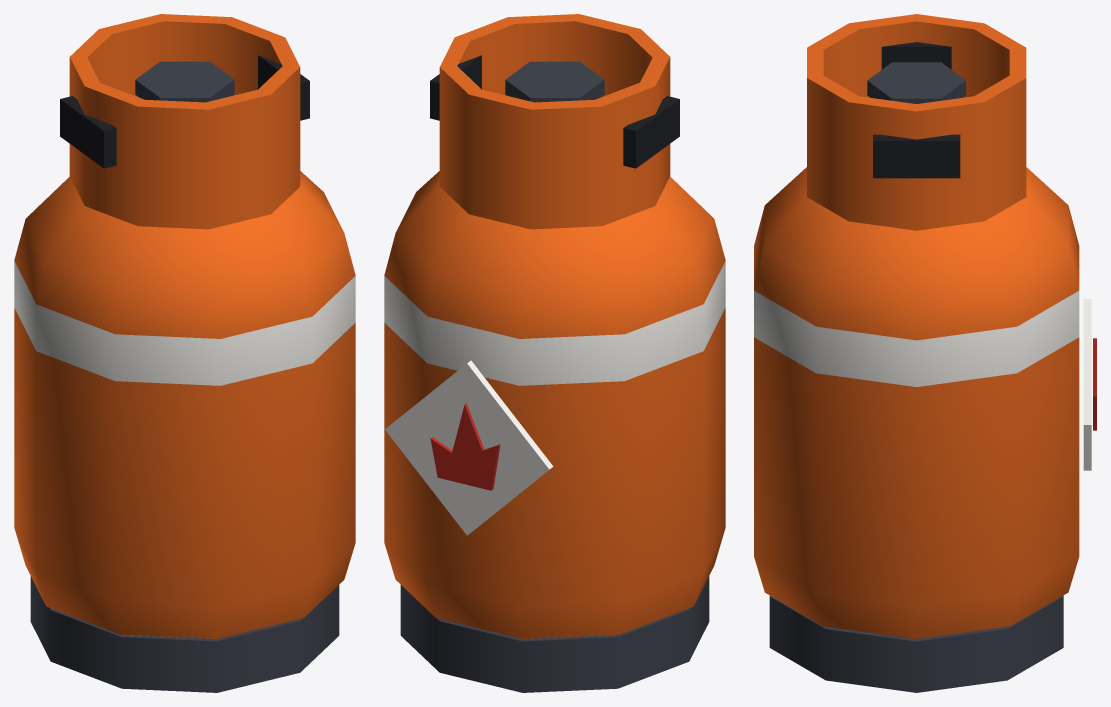
Rendered from gas_canister.glb.
3 views of the same model, side by side, from view 1: azimuth 30°, elevation 25°; view 2: azimuth 150°, elevation 25°; view 3: azimuth 270°, elevation 25° (orthographic).
Visible parts, largest first — view 1: gas_canister; view 2: gas_canister; view 3: gas_canister.
Part boxes in pixels (box(x1,y1,x2,y2)): gas_canister: box(14, 14, 355, 692); gas_canister: box(384, 14, 725, 692); gas_canister: box(754, 14, 1096, 692).
Size of the model in its own units: 0.332 by 0.605 by 0.3329.
